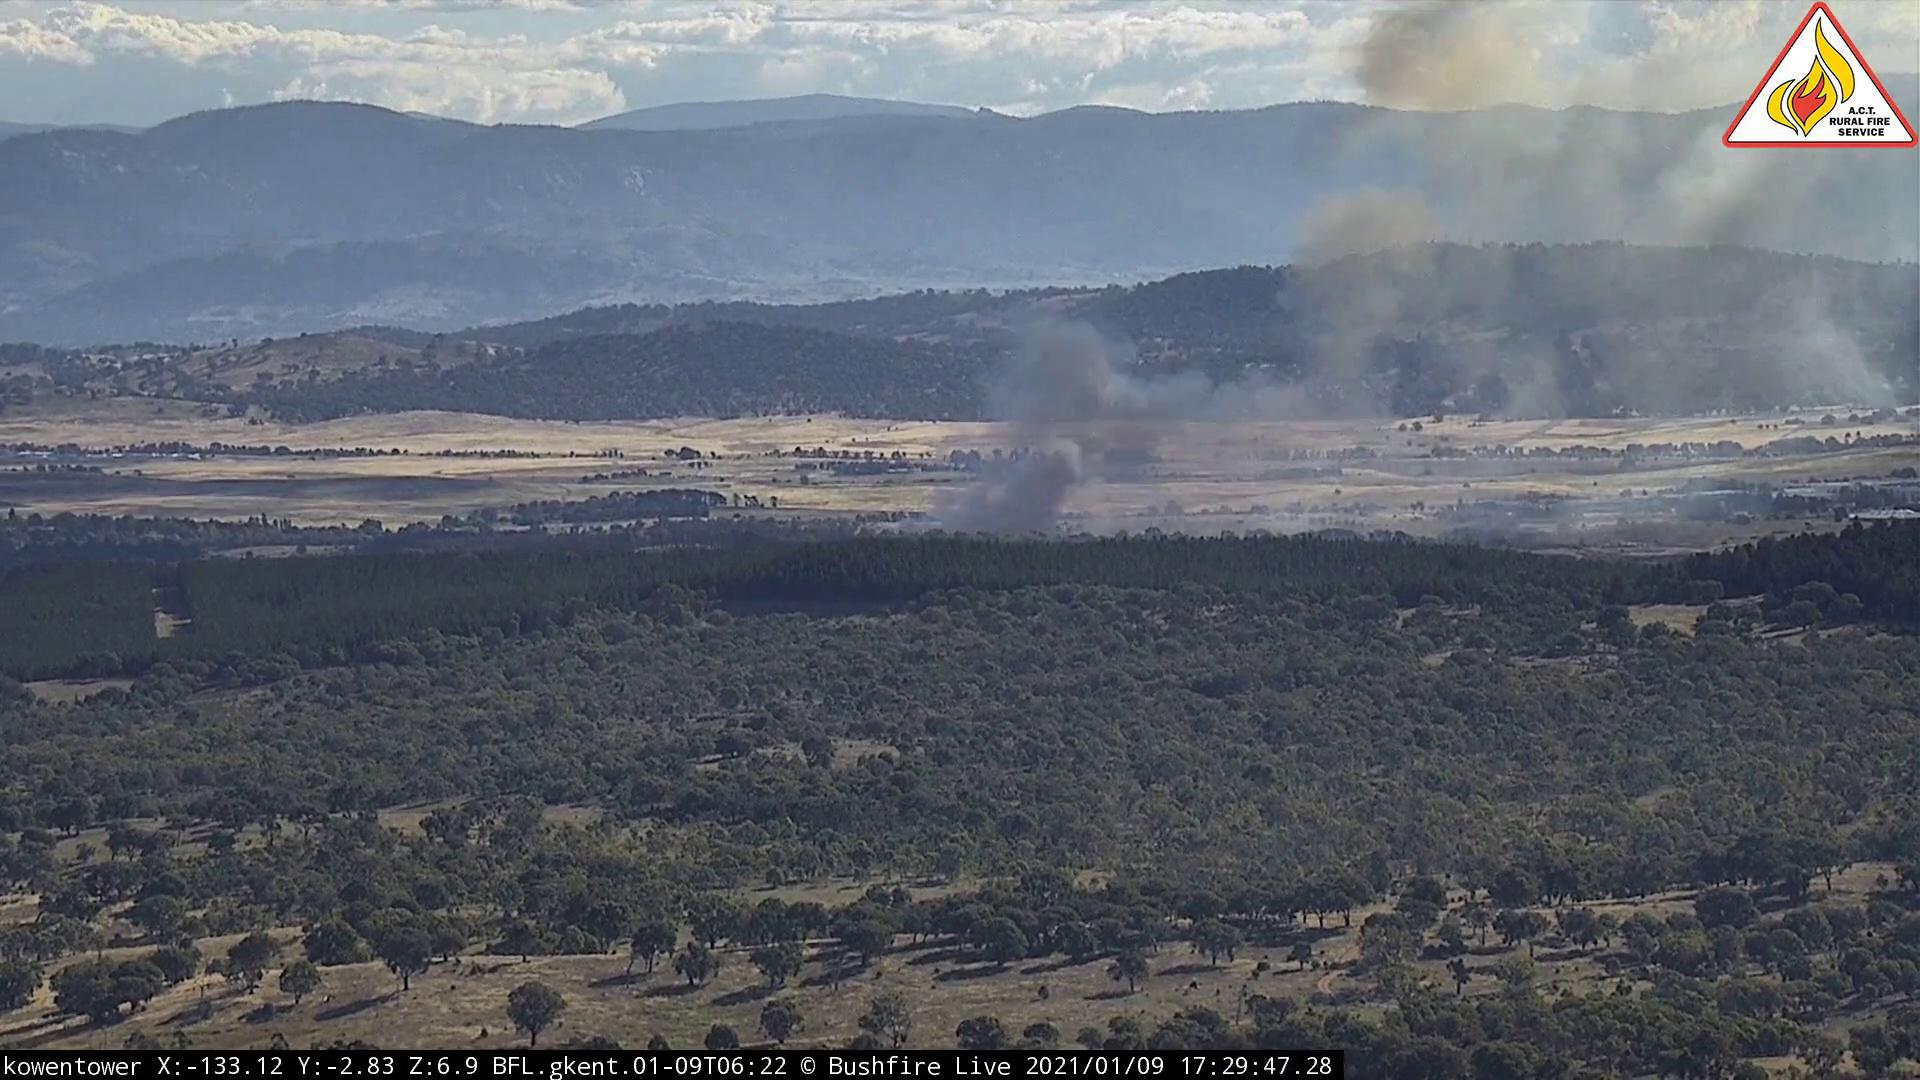Smoke: (849, 3, 1721, 549)
